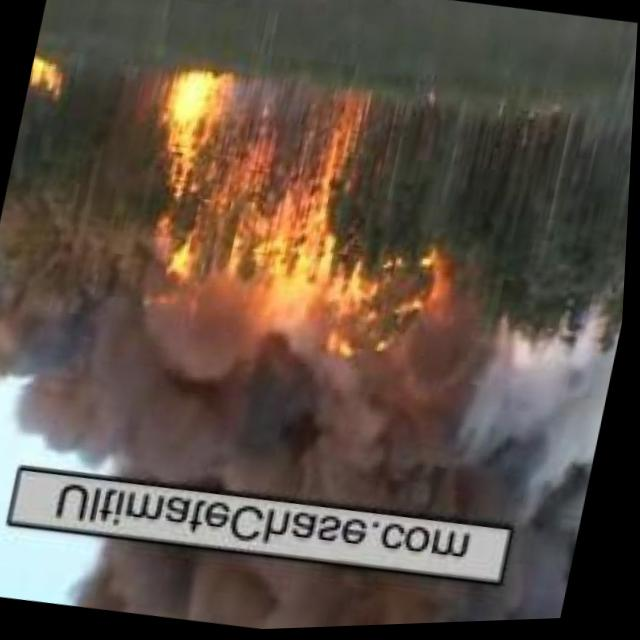Fire: (122, 48, 368, 329), (332, 244, 460, 378), (25, 48, 85, 111)
